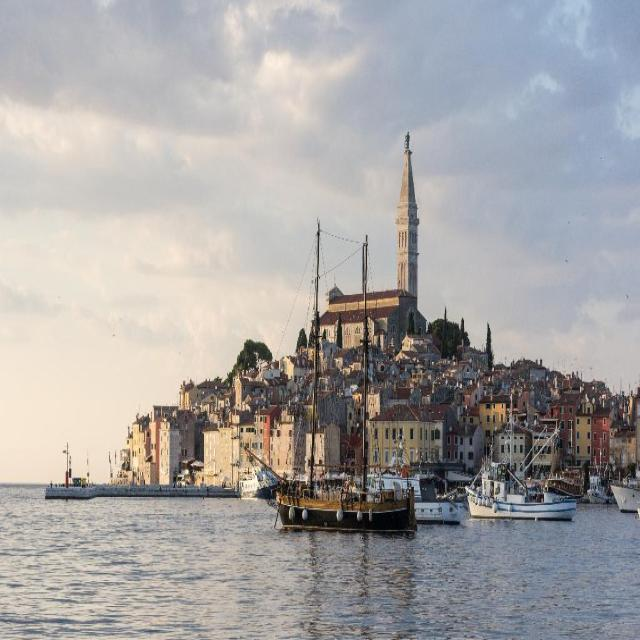Boat: (244, 214, 418, 534), (354, 439, 462, 524), (462, 463, 584, 528), (586, 439, 610, 505), (609, 476, 640, 514)
